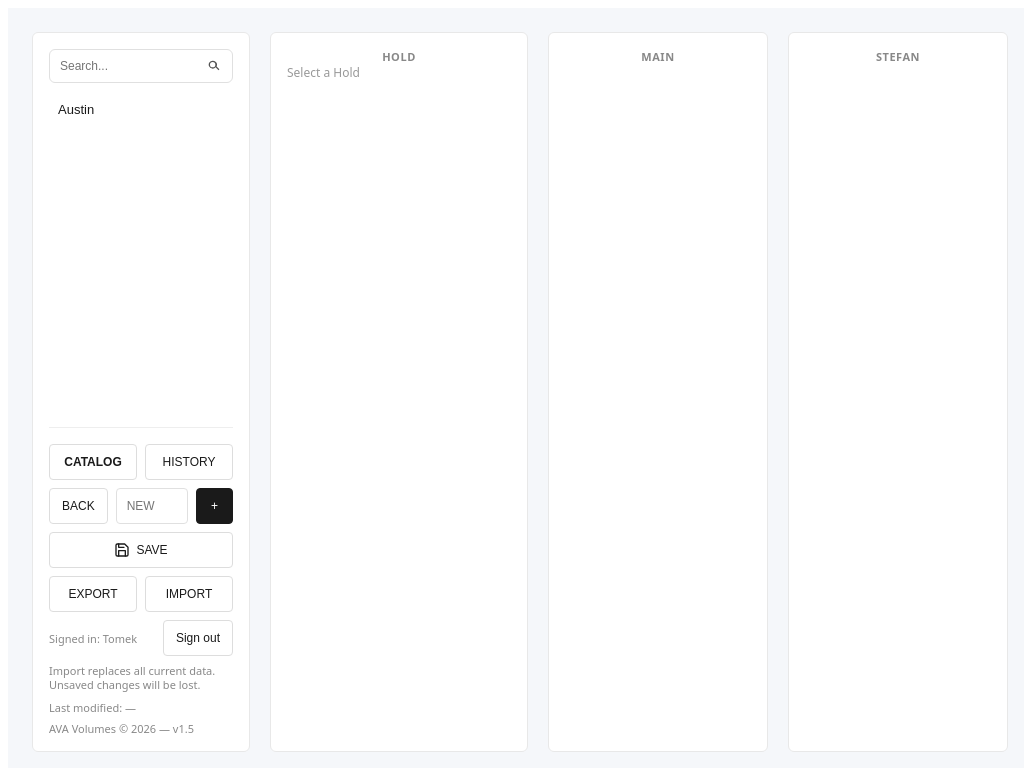
App history integration (Phase 3) › loads and renders the authenticated admin history tab
Expected: the text "MAIN" is shown, left=641, top=49, right=675, bottom=64
Expected: the button "EXPORT" is shown, left=49, top=576, right=137, bottom=612
Click the button "HISTORY": x=189, y=462 left=145, top=444, right=233, bottom=480
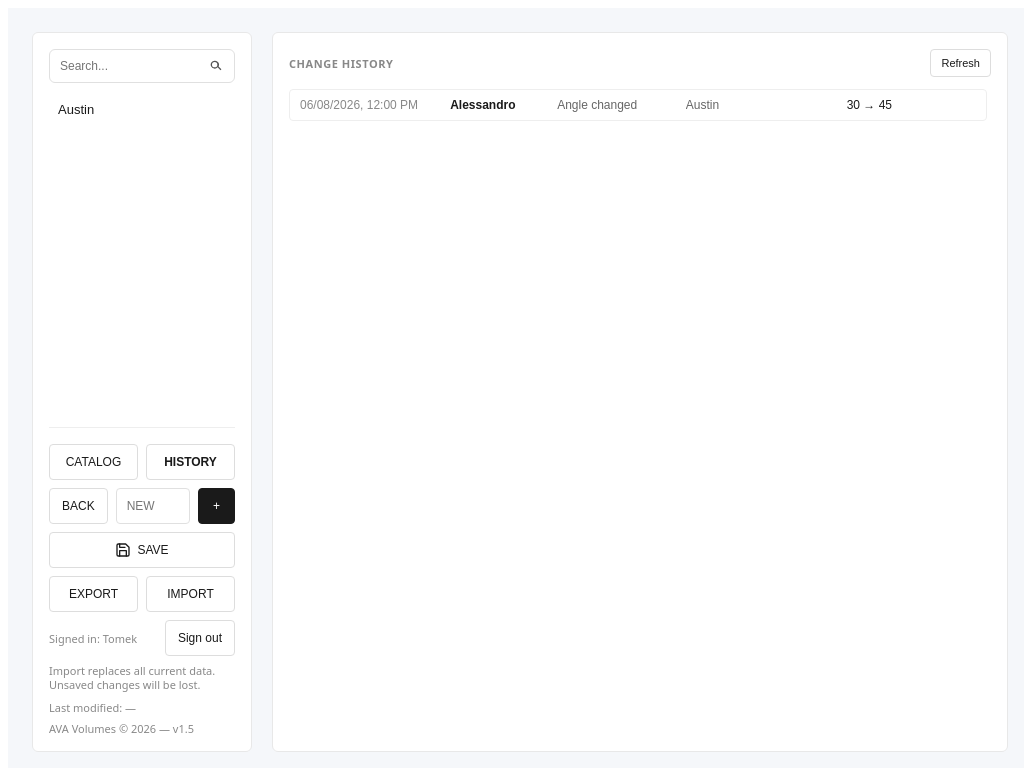
Result: the text "Alessandro" is shown at left=450, top=98, right=516, bottom=112
Result: the text "Angle changed" is shown at left=557, top=98, right=637, bottom=112
Result: the text "30 → 45" is shown at left=847, top=98, right=892, bottom=112
